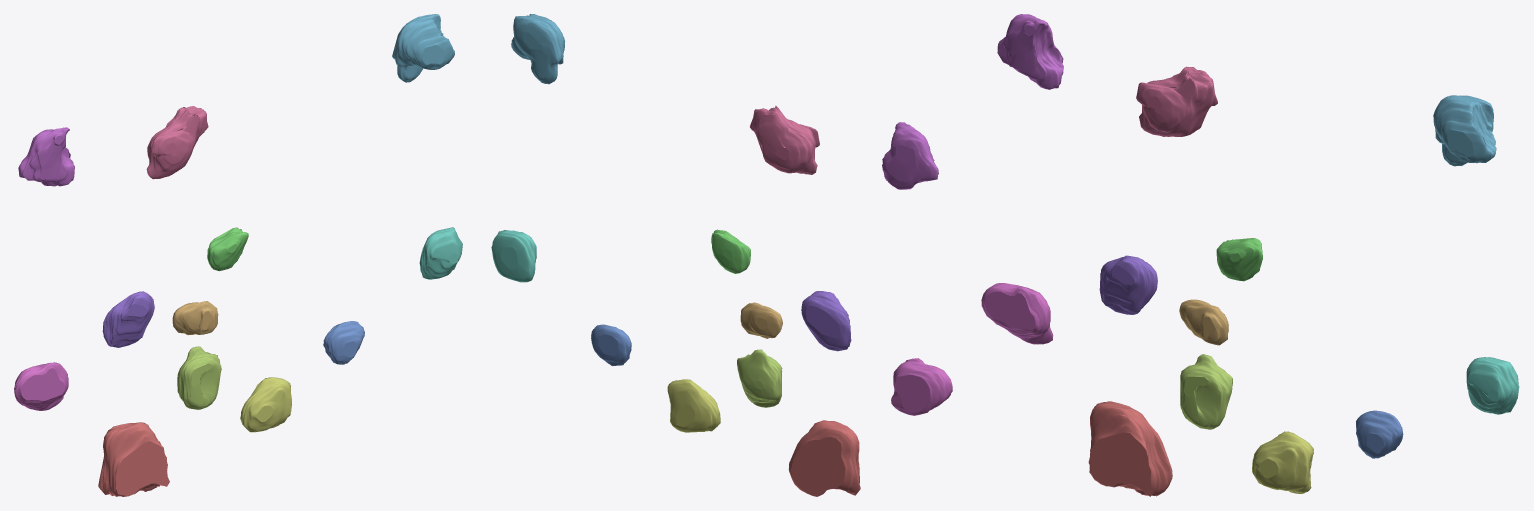
Rendered from tile_0_0.glb.
3 renders of one model, left to right at view 1: azimuth 30°, elevation 25°; view 2: azimuth 150°, elevation 25°; view 3: azimuth 330°, elevation 25°, orthographic. The views are drawn at different scales.
Bounding box in the file's own units: 1609 × 1377 × 82.
